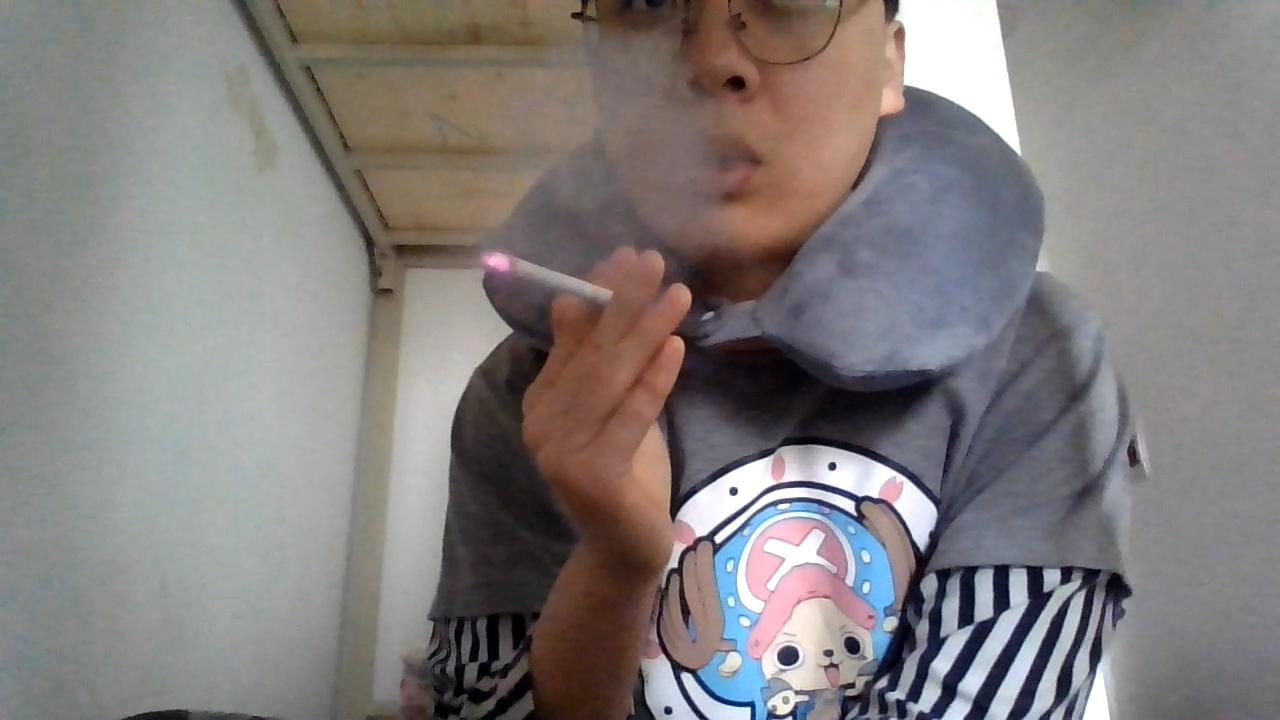yanwu: (531, 36, 725, 276)
